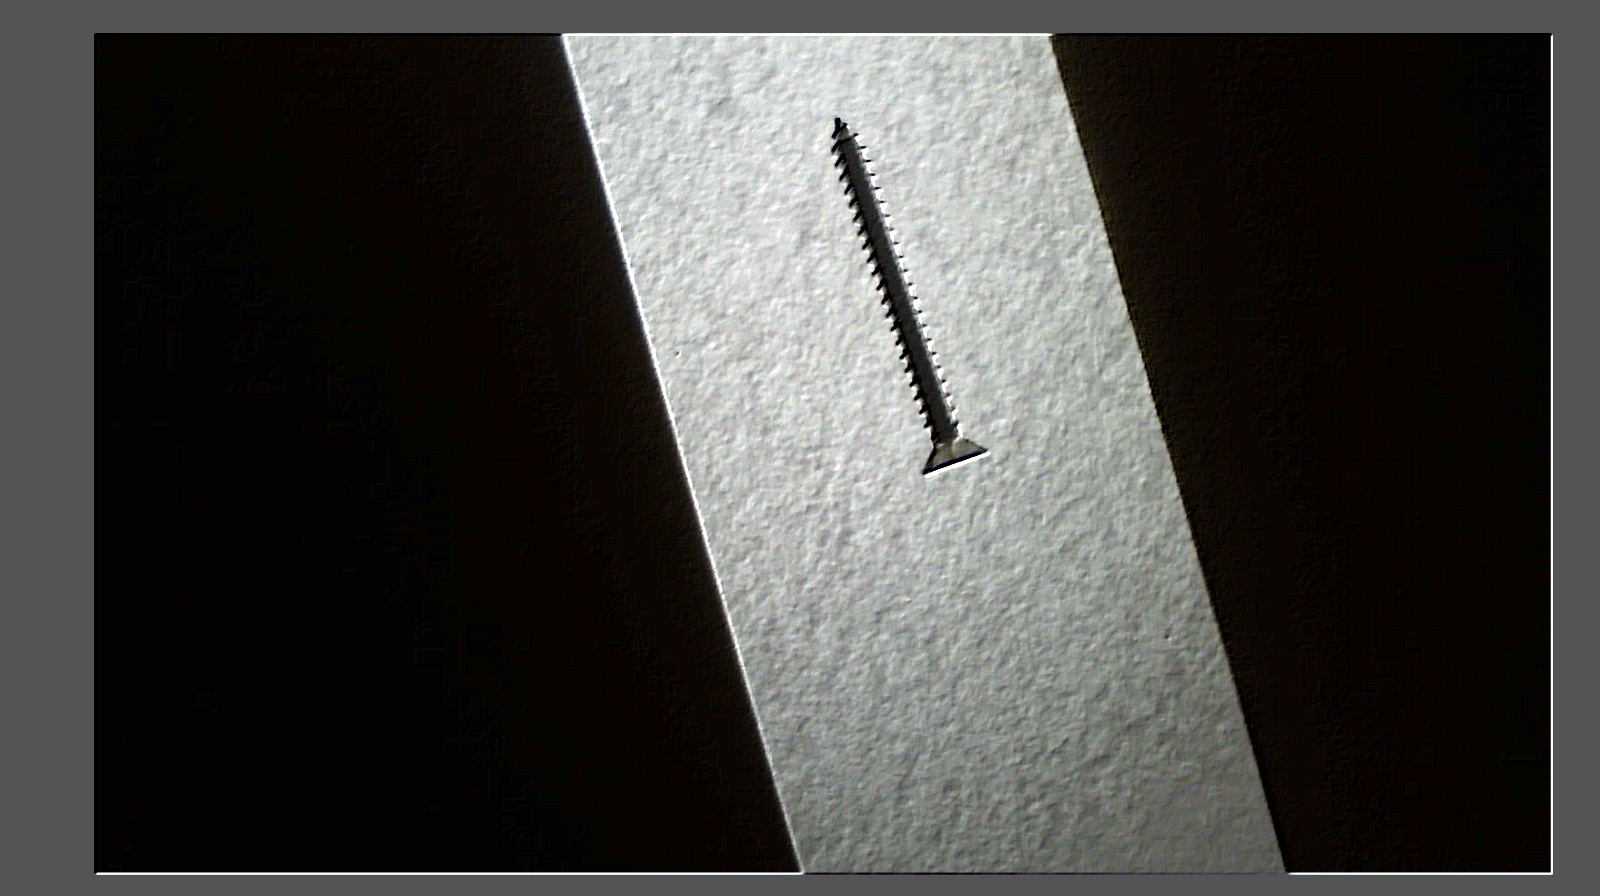S002: (805, 97, 1001, 487)
